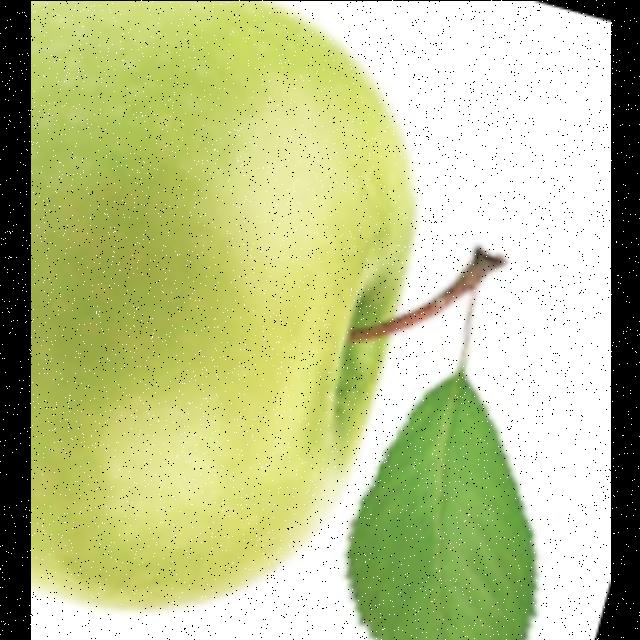Apel Segar: (30, 0, 426, 611)
